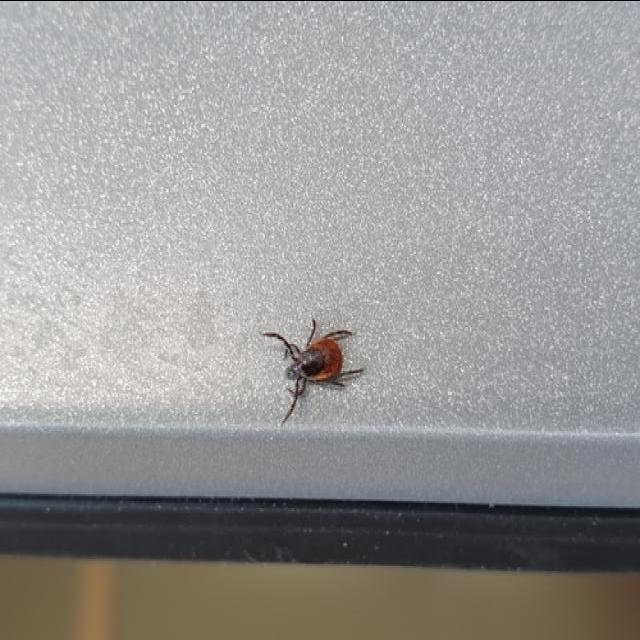Ixodes Ricinus-F: (264, 317, 364, 423)
